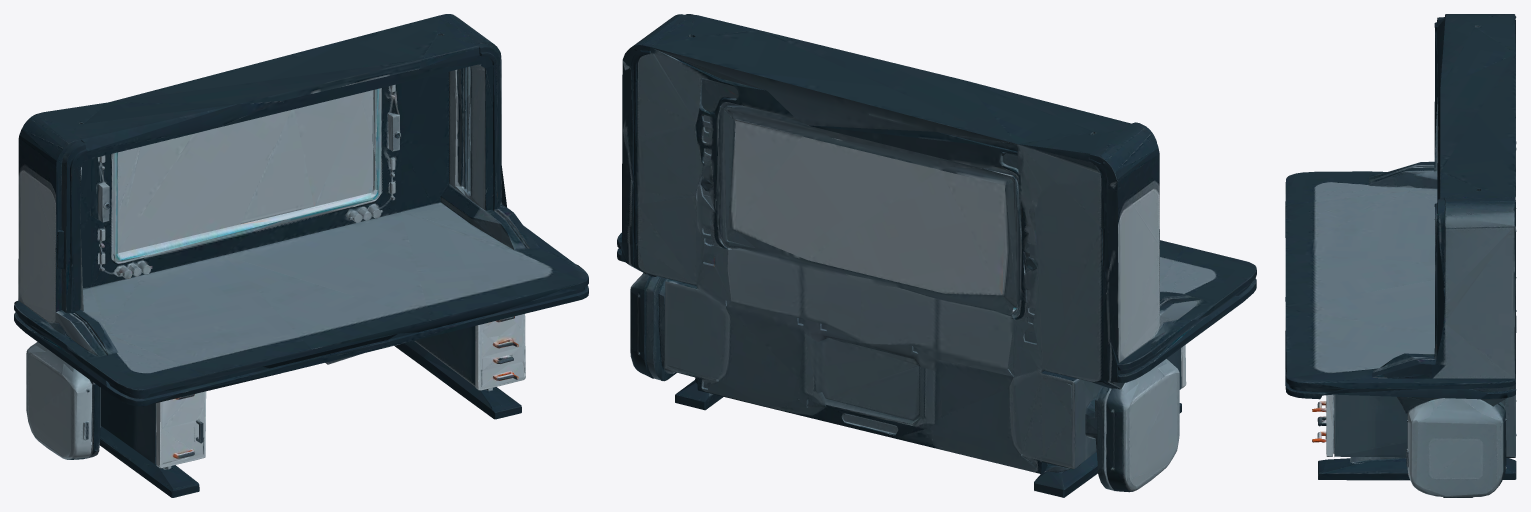
Rendered from bench.gltf.
3 views of the same model, side by side, from view 1: azimuth 30°, elevation 25°; view 2: azimuth 150°, elevation 25°; view 3: azimuth 270°, elevation 25° (orthographic). The views are drawn at different scales.
Bounding box in the file's own units: 1.9 × 1.22 × 0.8745.
1 material, 1 textured.
